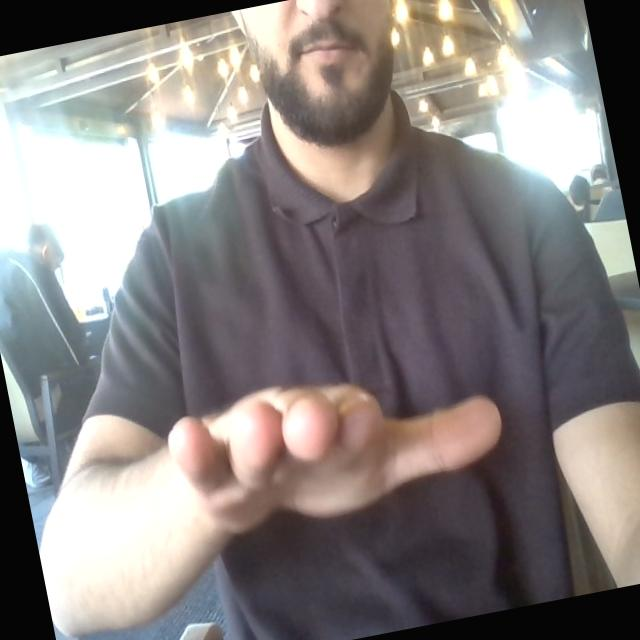Hand: (168, 384, 500, 534)
